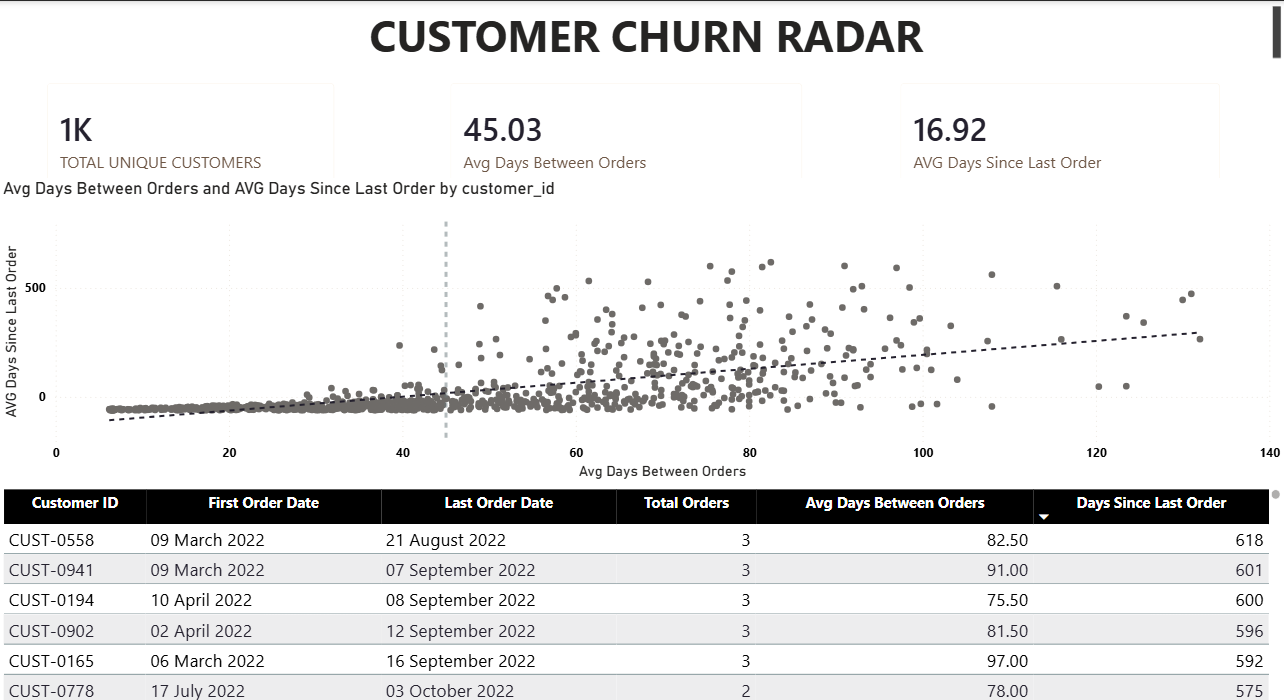

What the dashboard file says about the page in this screenshot:
{"tool":"powerbi","page":{"name":"Retention","canvas":[1280,720],"ordinal":2},"visuals":[{"type":"textbox","box":[16,0,1264,64],"z":0},{"type":"cardVisual","fields":{"Data":["Count(mart_customer_360.customer_id)"]},"box":[32,64,320,144],"z":1000},{"type":"cardVisual","fields":{"Data":["Avg(mart_customer_360.avg_days_between_orders)"]},"box":[432,64,384,144],"z":2000},{"type":"cardVisual","fields":{"Data":["Avg(mart_customer_360.days_since_last_order)"]},"box":[880,64,352,144],"z":3000},{"type":"scatterChart","fields":{"Category":["mart_customer_360.customer_id"],"X":["Avg(mart_customer_360.avg_days_between_orders)"],"Y":["Avg(mart_customer_360.days_since_last_order)"]},"box":[0,176,1280,304],"z":4000},{"type":"tableEx","fields":{"Values":["mart_customer_360.customer_id","mart_customer_360.first_order_date","mart_customer_360.last_order_date","Sum(mart_customer_360.total_orders)","mart_customer_360.avg_days_between_orders","mart_customer_360.days_since_last_order"]},"box":[0,480,1280,240],"z":5000}]}

Visuals, with their boxes on the page's 1280x720 design canvas (x1, y1, x2, y2). These are canvas units, not pixel positions in the 1284x700 screenshot, which may show the page scaled, cropped or inside an application window:
textbox: l=16, t=0, r=1280, b=64
cardVisual - Count(mart_customer_360.customer_id): l=32, t=64, r=352, b=208
cardVisual - Avg(mart_customer_360.avg_days_between_orders): l=432, t=64, r=816, b=208
cardVisual - Avg(mart_customer_360.days_since_last_order): l=880, t=64, r=1232, b=208
scatterChart - mart_customer_360.customer_id x Avg(mart_customer_360.avg_days_between_orders): l=0, t=176, r=1280, b=480
tableEx - mart_customer_360.customer_id x mart_customer_360.first_order_date: l=0, t=480, r=1280, b=720
